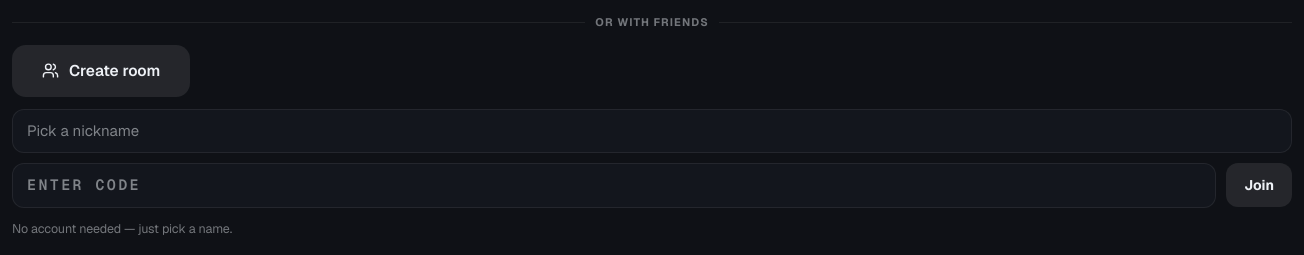
FriendsRoomEntry — guest join › asks for a nickname before sending anything
In the field with placeholder "Enter code": coordinates (614, 185) [12, 163, 1216, 208], type "ABC12"
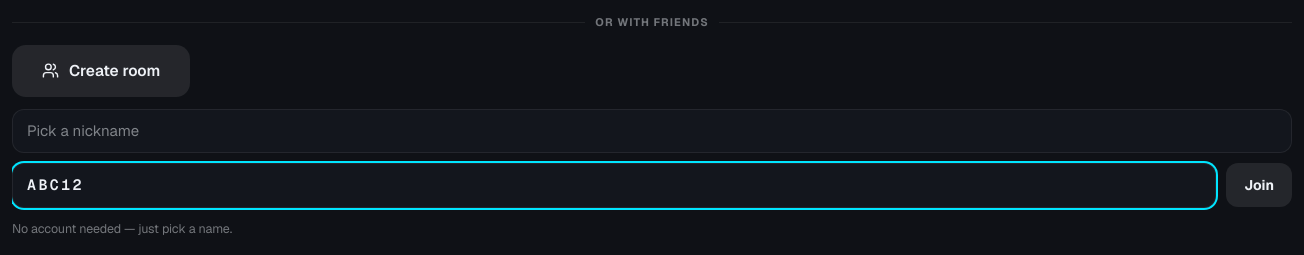
Click the button "Join": coordinates (1259, 185) [1226, 163, 1292, 207]
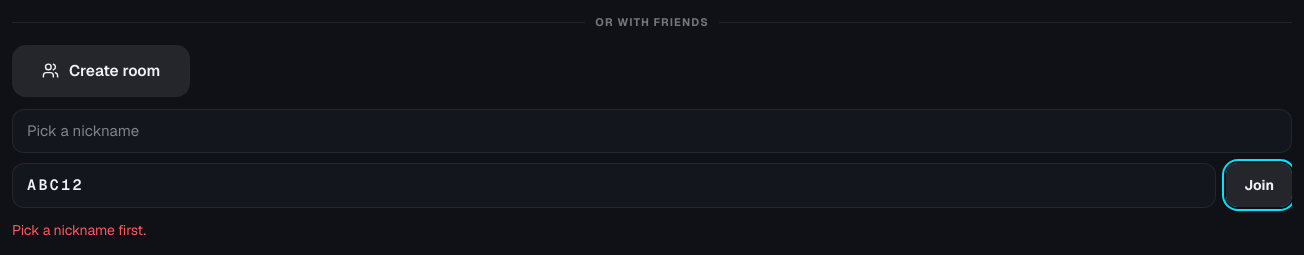
Now the text "Pick a nickname first." is shown, box [12, 220, 146, 238]
